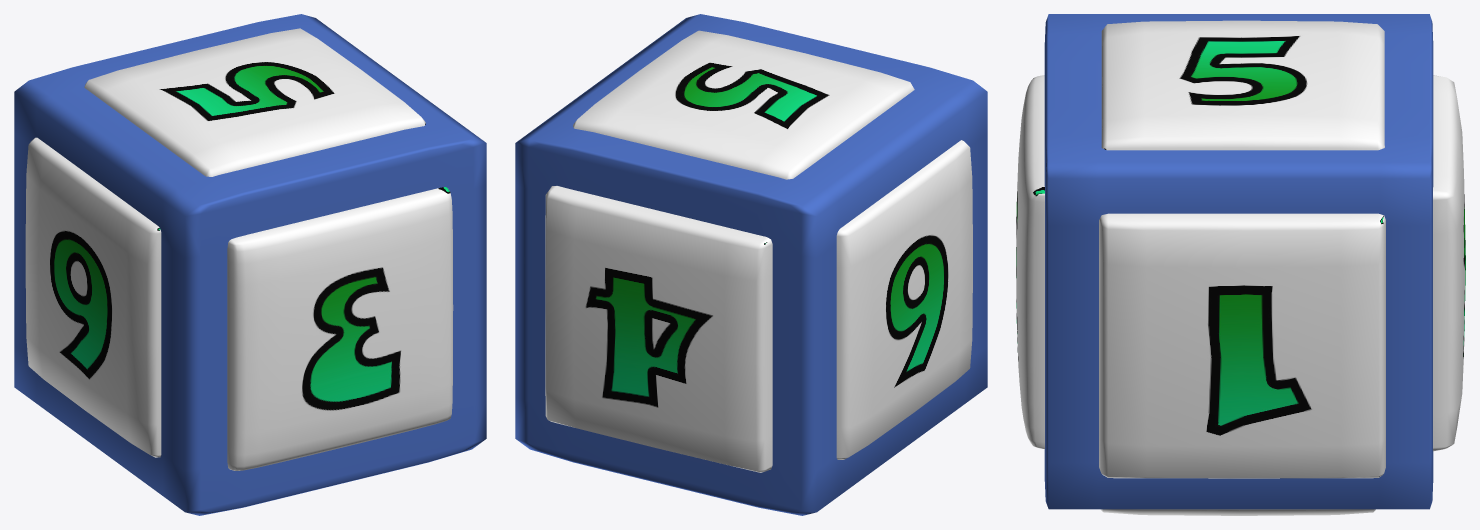
Rendered from dice.fbx.
3 views of the same model, side by side, from view 1: azimuth 30°, elevation 25°; view 2: azimuth 150°, elevation 25°; view 3: azimuth 270°, elevation 25° (orthographic). The views are drawn at different scales.
Visible parts, largest first — view 1: pCube1, pCube11, pCube14, pCube13; view 2: pCube1, pCube12, pCube14, pCube13; view 3: pCube1, pCube9, pCube13, pCube12, pCube11, pCube10.
Part boxes in pixels (x1=…): pCube1: x1=14, y1=14, x2=486, y2=515; pCube11: x1=227, y1=187, x2=453, y2=470; pCube14: x1=25, y1=137, x2=161, y2=457; pCube13: x1=84, y1=28, x2=425, y2=176; pCube1: x1=515, y1=14, x2=987, y2=515; pCube12: x1=545, y1=186, x2=772, y2=472; pCube14: x1=836, y1=140, x2=972, y2=459; pCube13: x1=573, y1=30, x2=914, y2=179; pCube1: x1=1044, y1=14, x2=1433, y2=509; pCube9: x1=1099, y1=213, x2=1385, y2=478; pCube13: x1=1101, y1=20, x2=1384, y2=150; pCube12: x1=1433, y1=75, x2=1465, y2=451; pCube11: x1=1016, y1=75, x2=1044, y2=448; pCube10: x1=1100, y1=509, x2=1375, y2=515.
Bounding box in the file's own units: 1.15 × 1.13 × 1.16.
